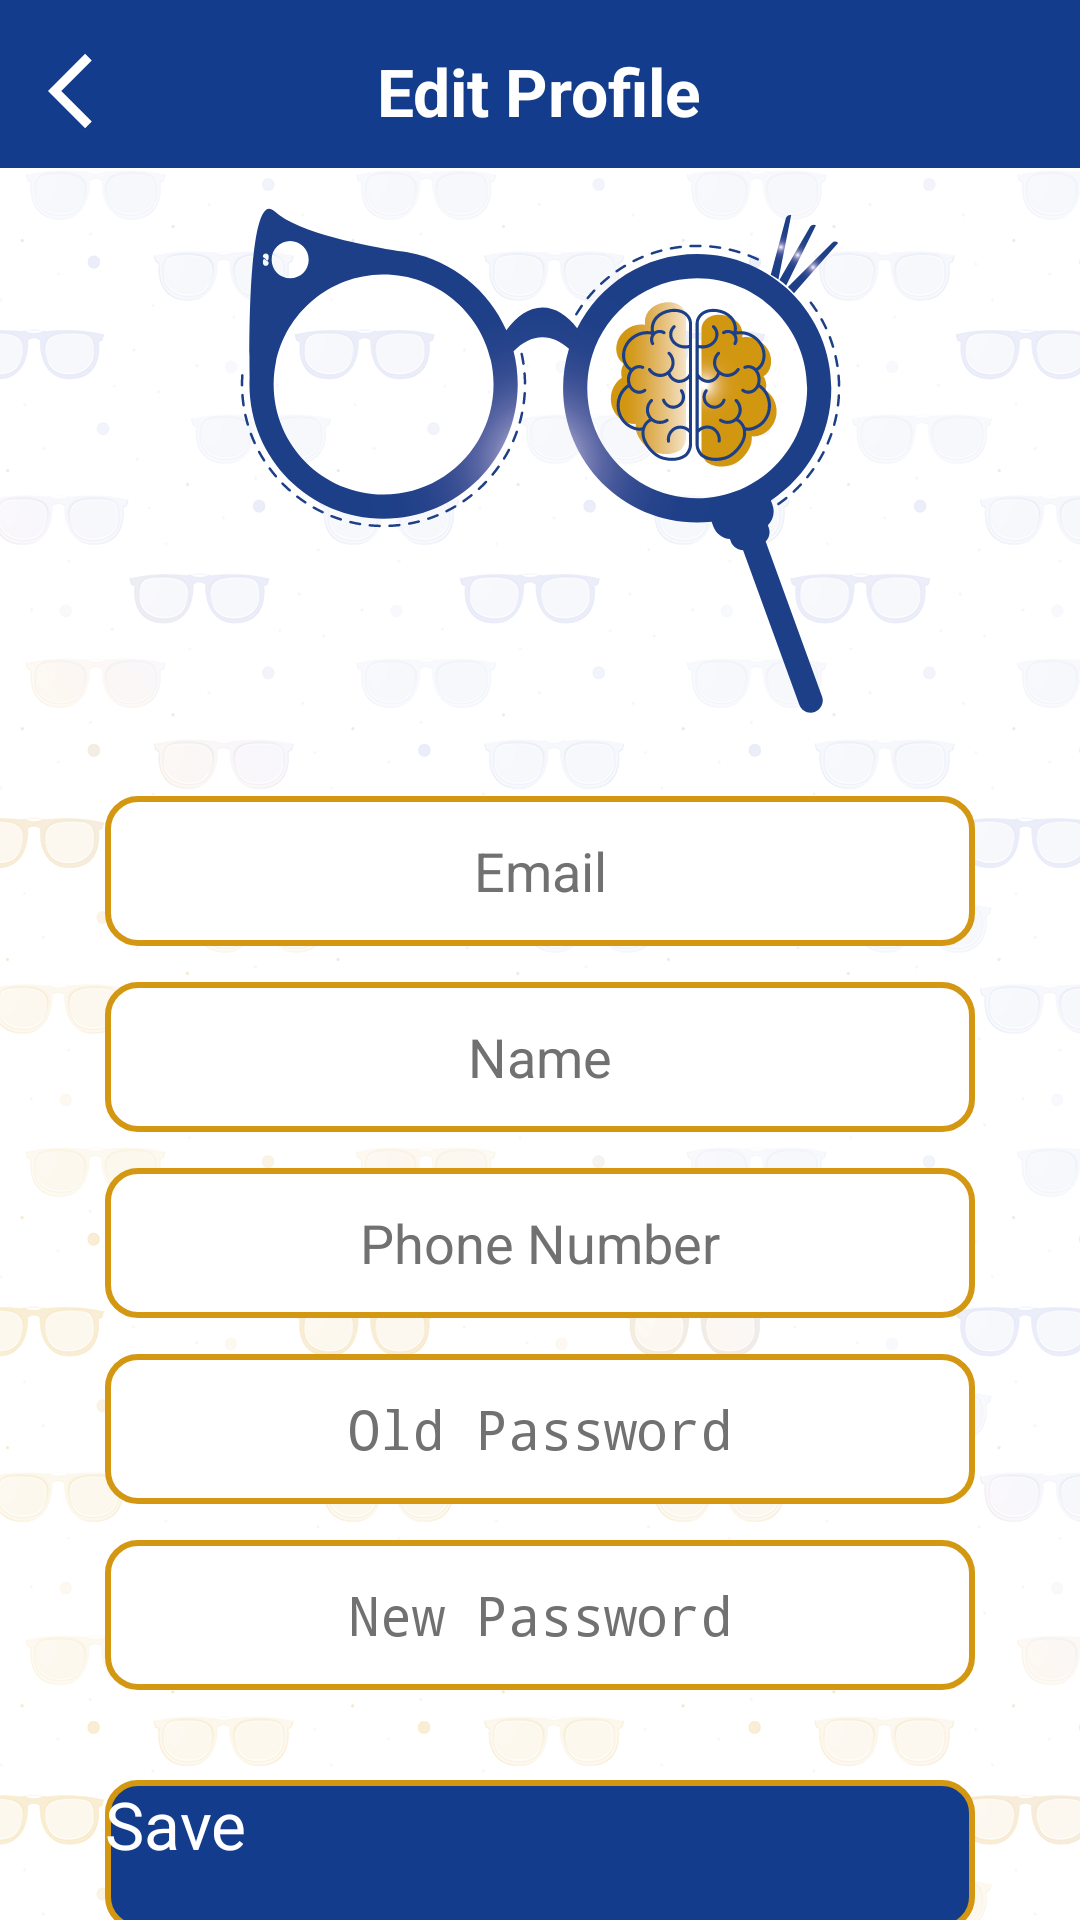

Named icons in this screenshot (1080 × 1920) and their centers, (x=x, y=y):
Back: (x=70, y=91)
